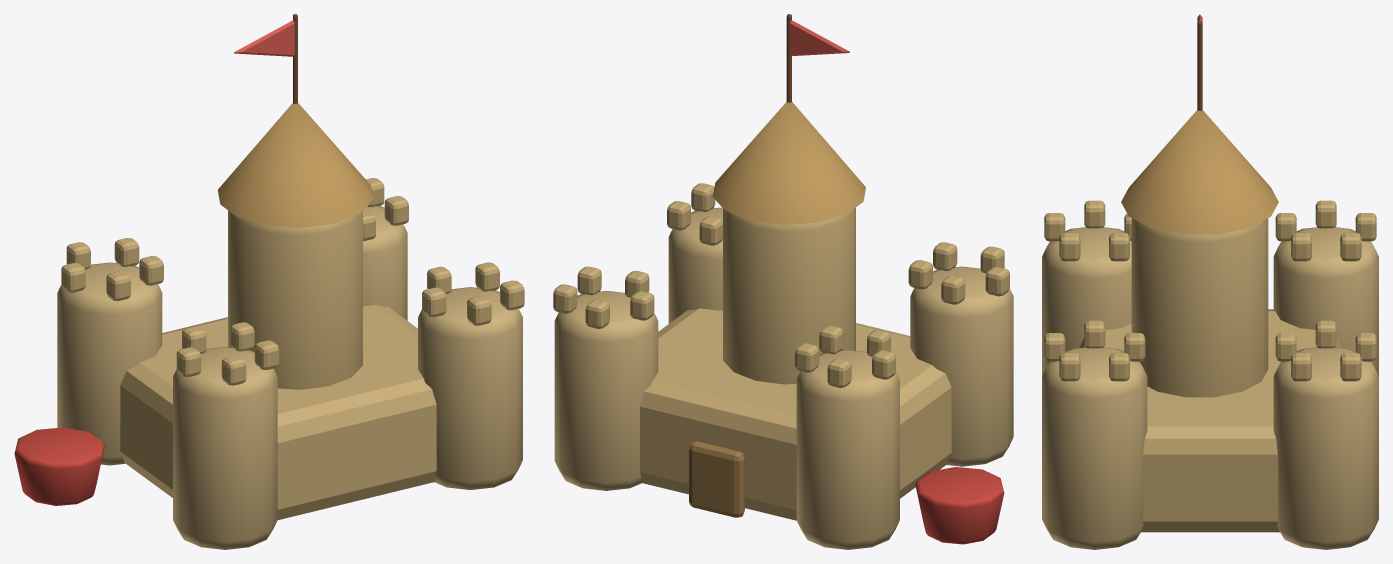
File: sandcastle.fbx
The picture shows the model from 3 angles, left to right: view 1: azimuth 30°, elevation 25°; view 2: azimuth 150°, elevation 25°; view 3: azimuth 270°, elevation 25°; orthographic projection.
Visible parts, largest first — view 1: sandcastle; view 2: sandcastle; view 3: sandcastle.
Boxes of the visible parts, box(x1,y1,x2,y2) form: sandcastle: box(14, 14, 524, 549); sandcastle: box(553, 14, 1013, 549); sandcastle: box(1042, 14, 1378, 549).
Bounding box in the file's own units: 0.9037 × 0.95 × 0.64.
